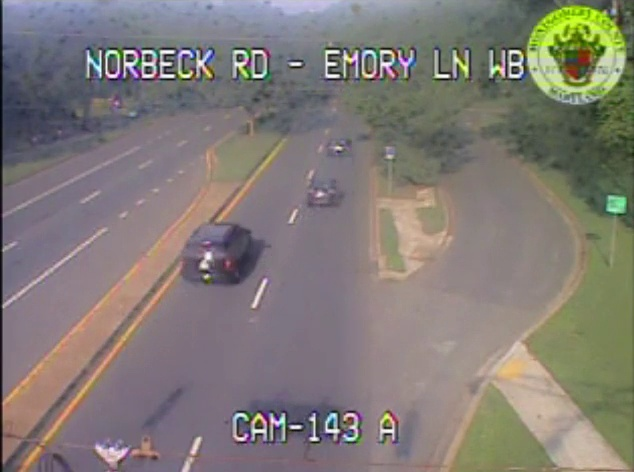car: (180, 223, 249, 281), (307, 179, 335, 204)
